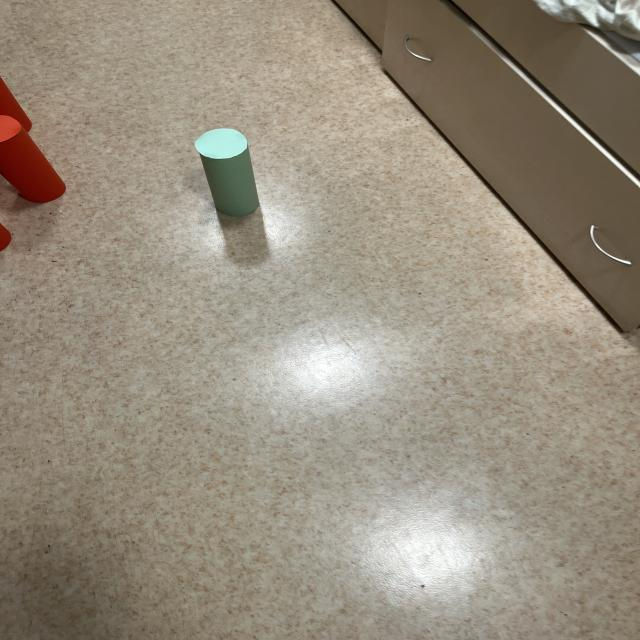meta: (195, 129, 259, 217)
